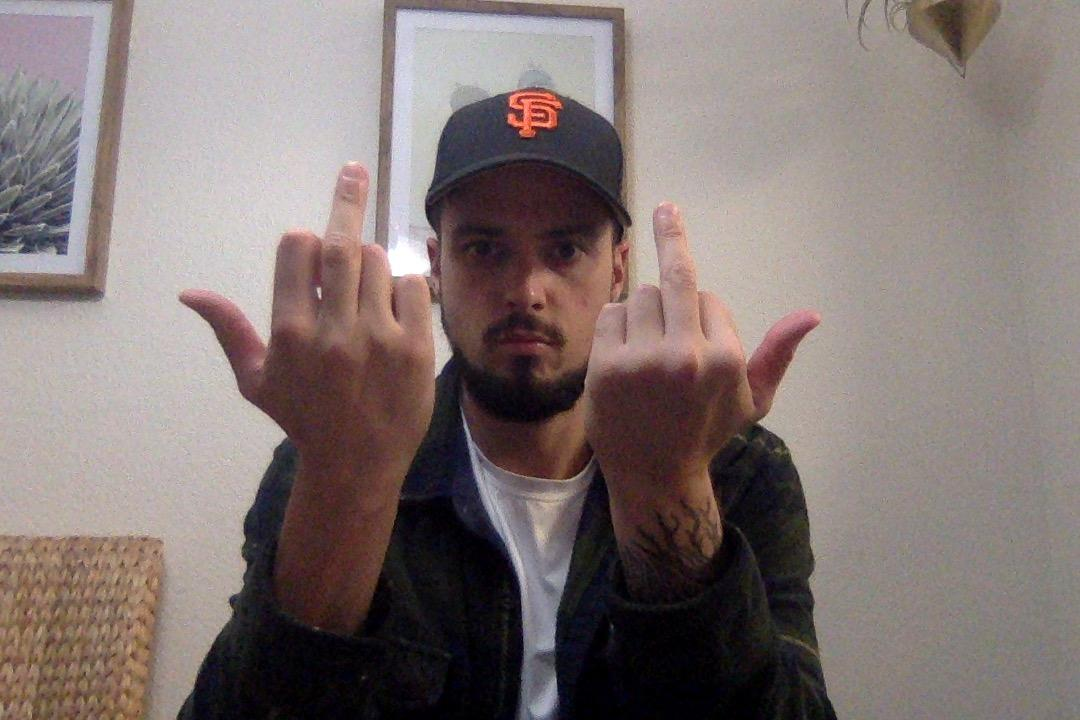Middle: (167, 155, 442, 496), (582, 193, 824, 497)
